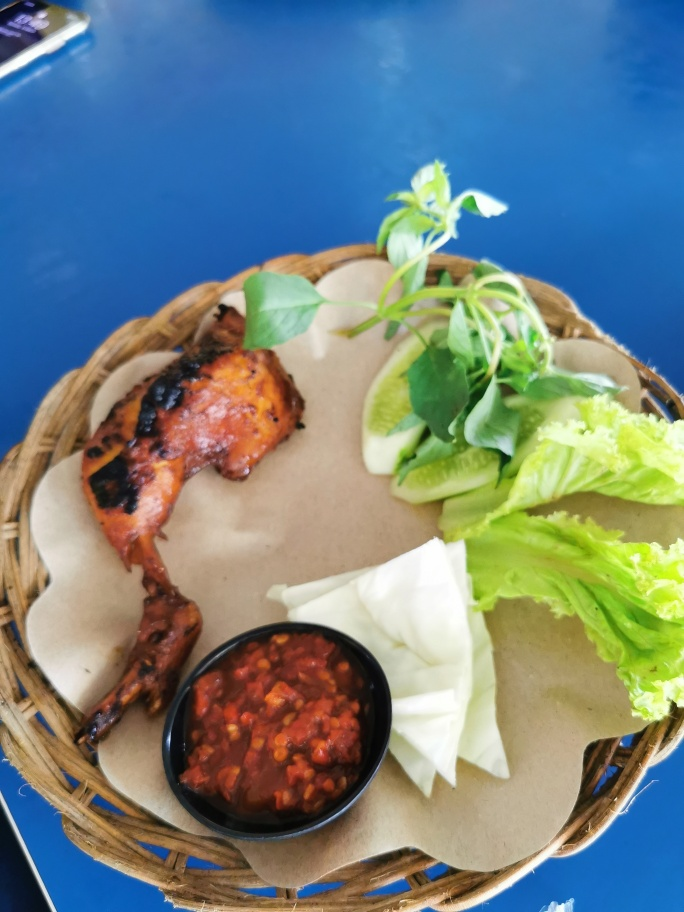ayam bakar: (44, 299, 319, 734)
